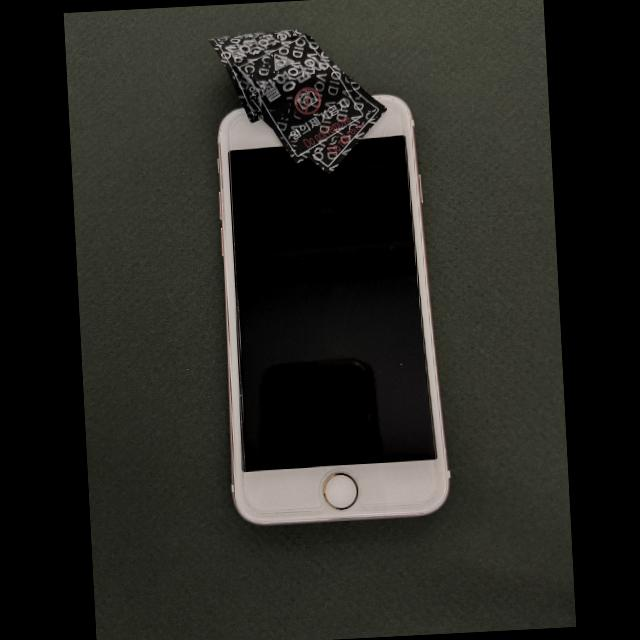phone: (216, 94, 451, 525)
sticker: (231, 34, 369, 164), (208, 29, 301, 123), (309, 65, 387, 176)
